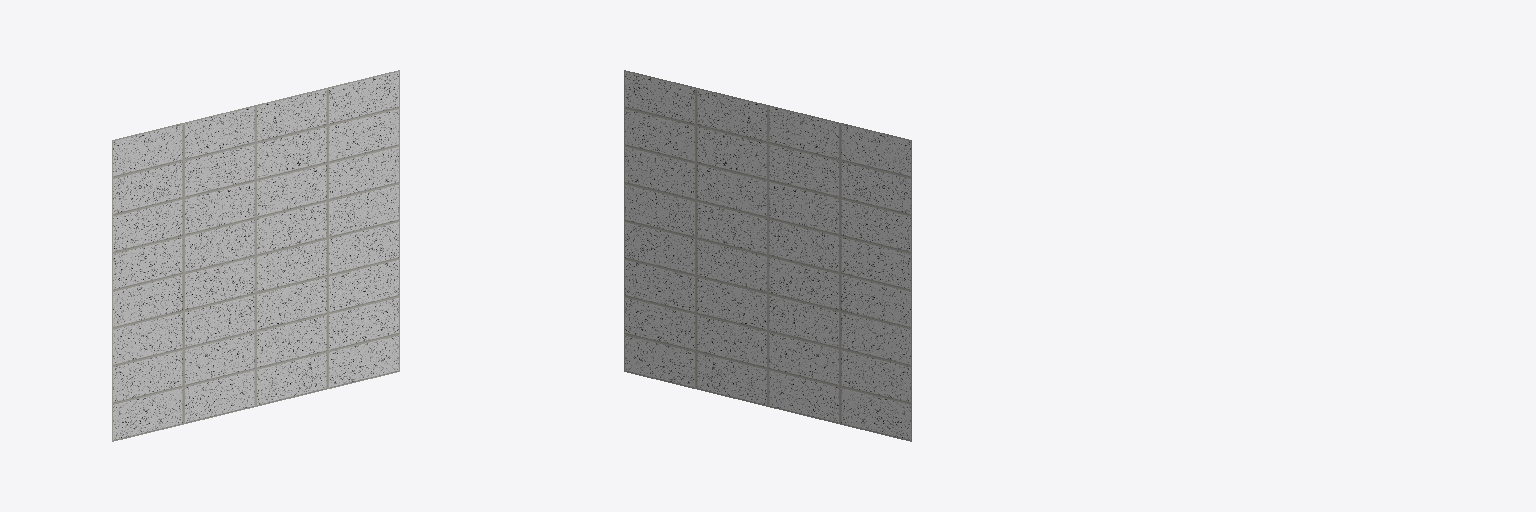
The picture shows the model from 3 angles: view 1: azimuth 30°, elevation 25°; view 2: azimuth 150°, elevation 25°; view 3: azimuth 270°, elevation 25°; orthographic projection.
Size of the model in its own units: 2 by 2 by 0.
1 materials, 1 textured.